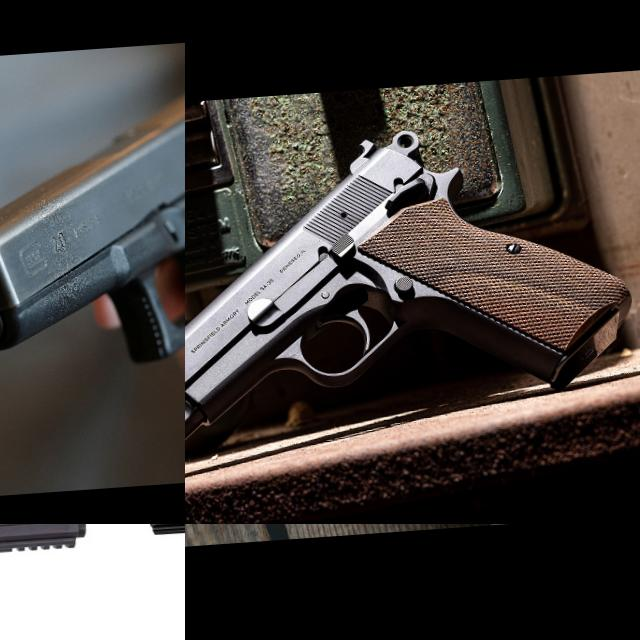handgun: (185, 109, 640, 499), (0, 34, 185, 480), (185, 524, 640, 640), (0, 524, 146, 640), (141, 524, 185, 640)
